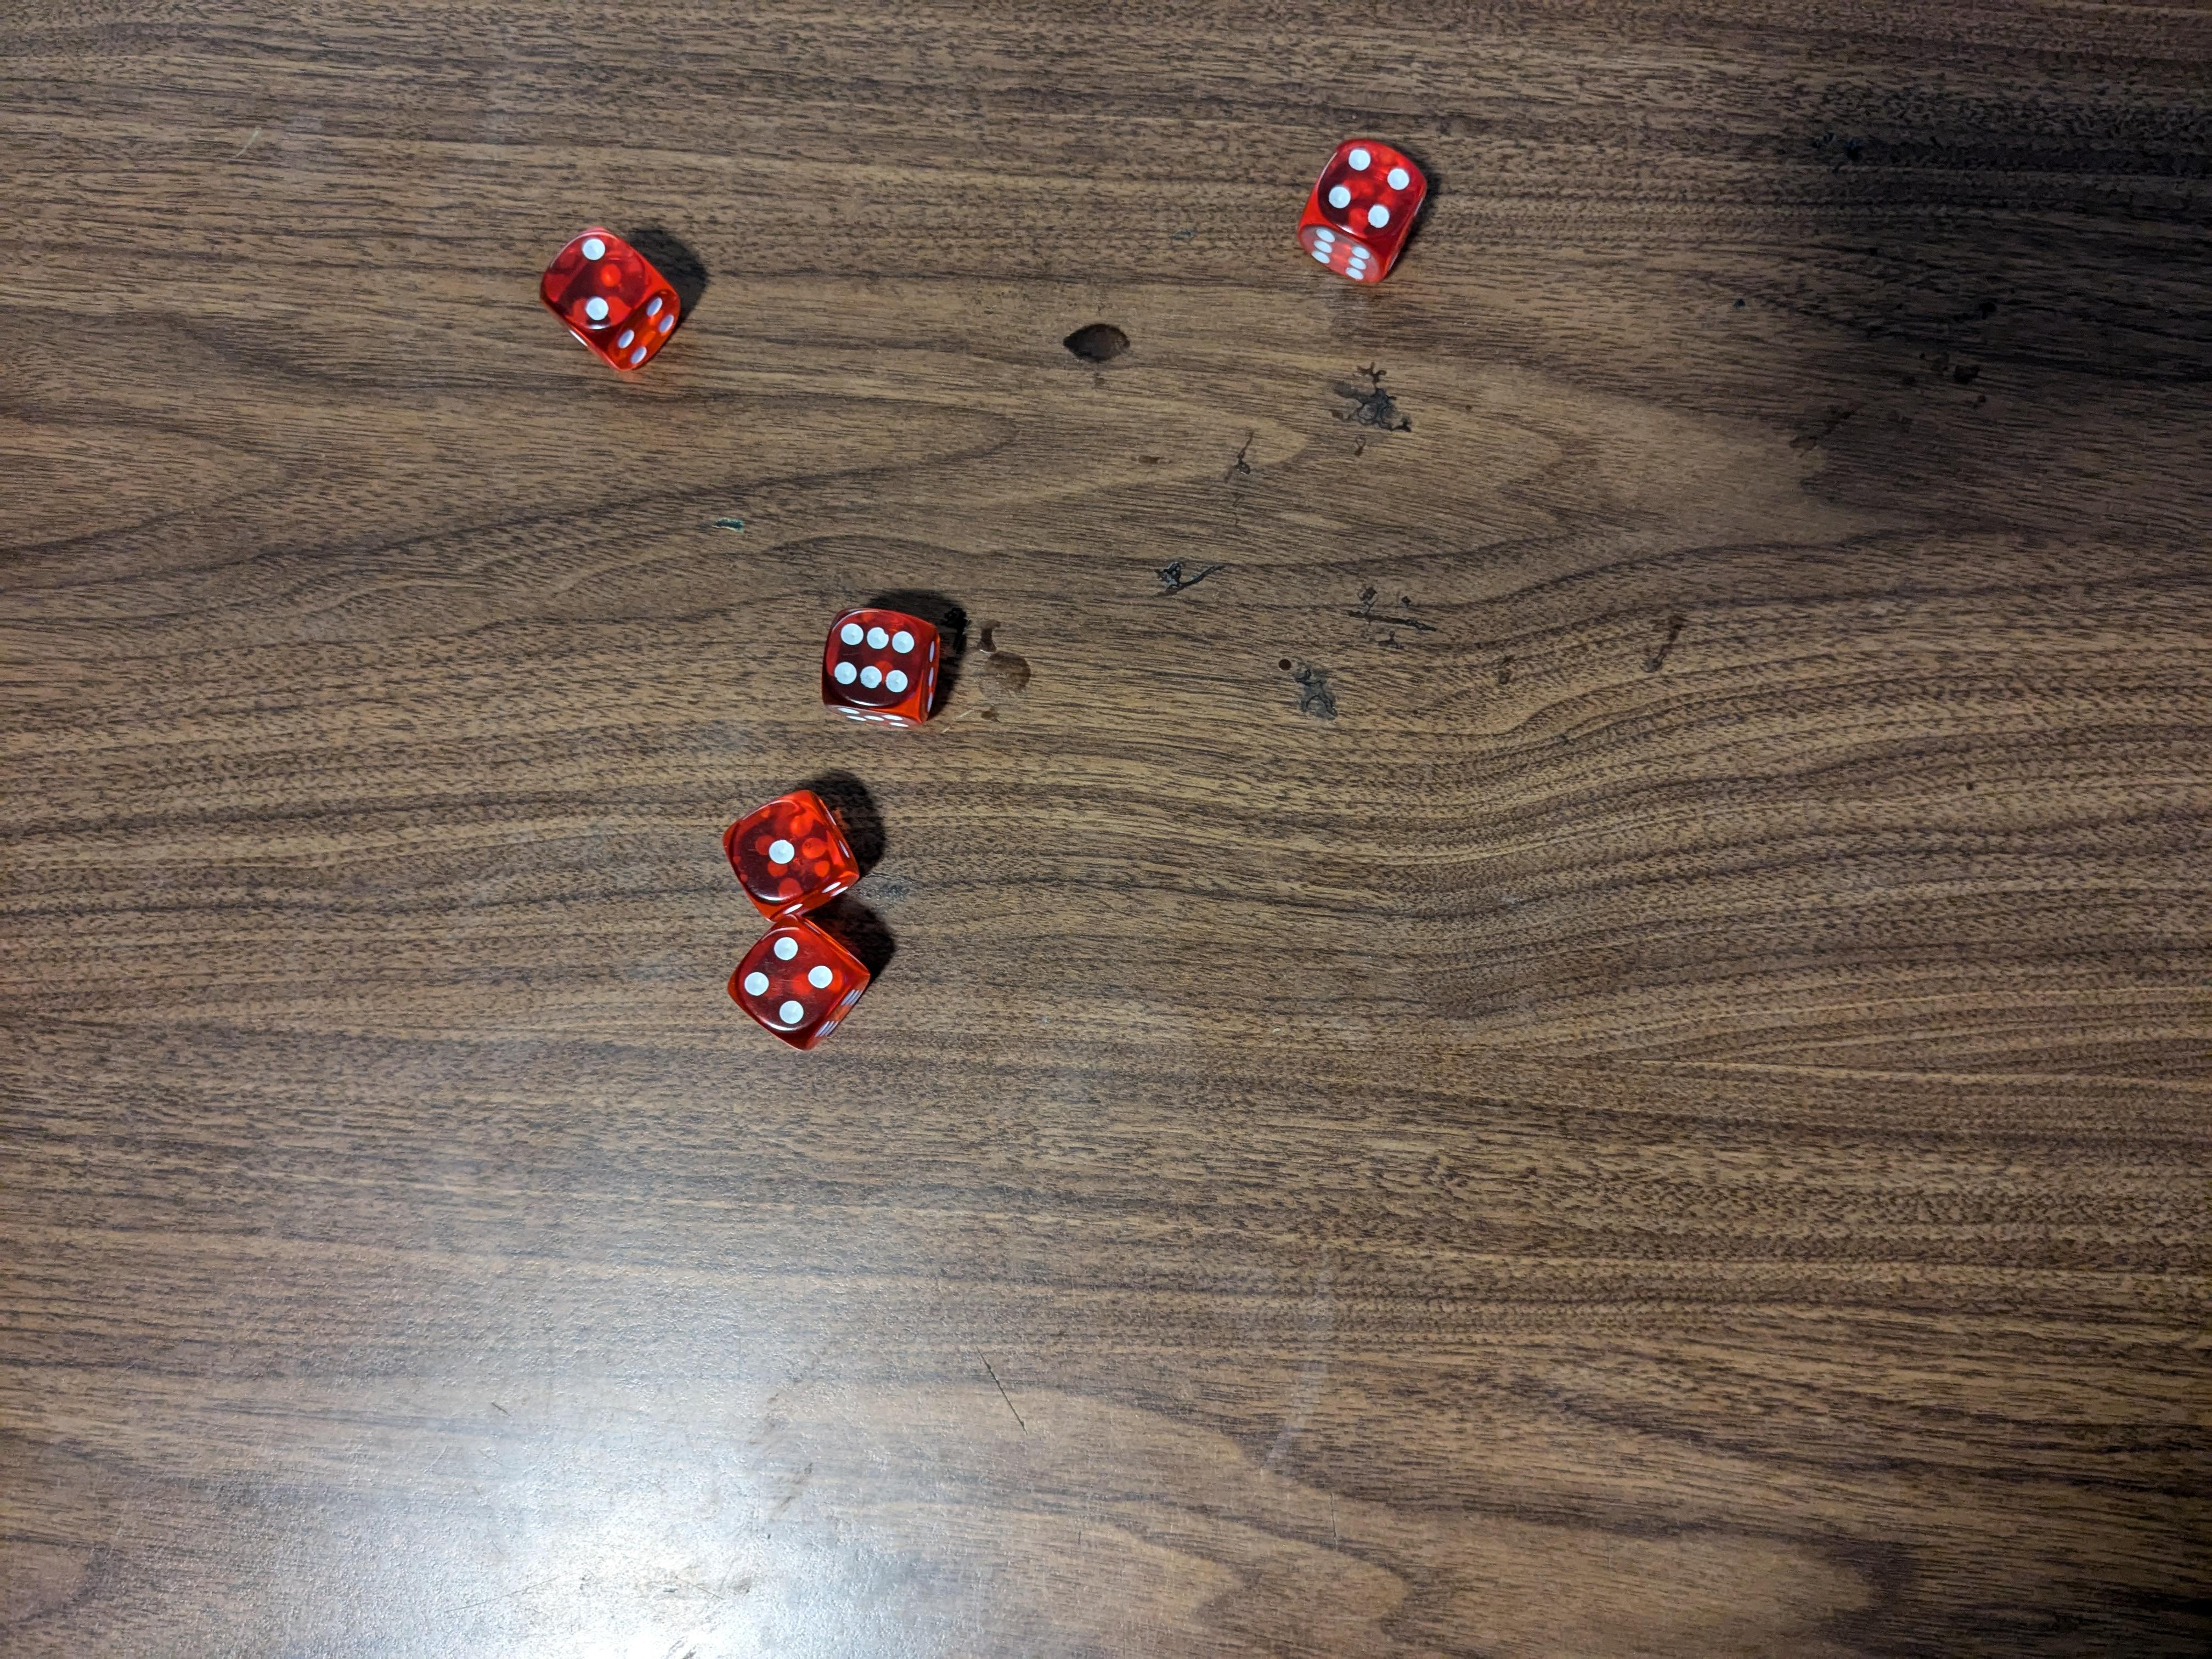four: (1299, 131, 1433, 291), (728, 913, 873, 1056)
one: (721, 789, 864, 925)
six: (822, 603, 941, 734)
two: (540, 223, 679, 371)
